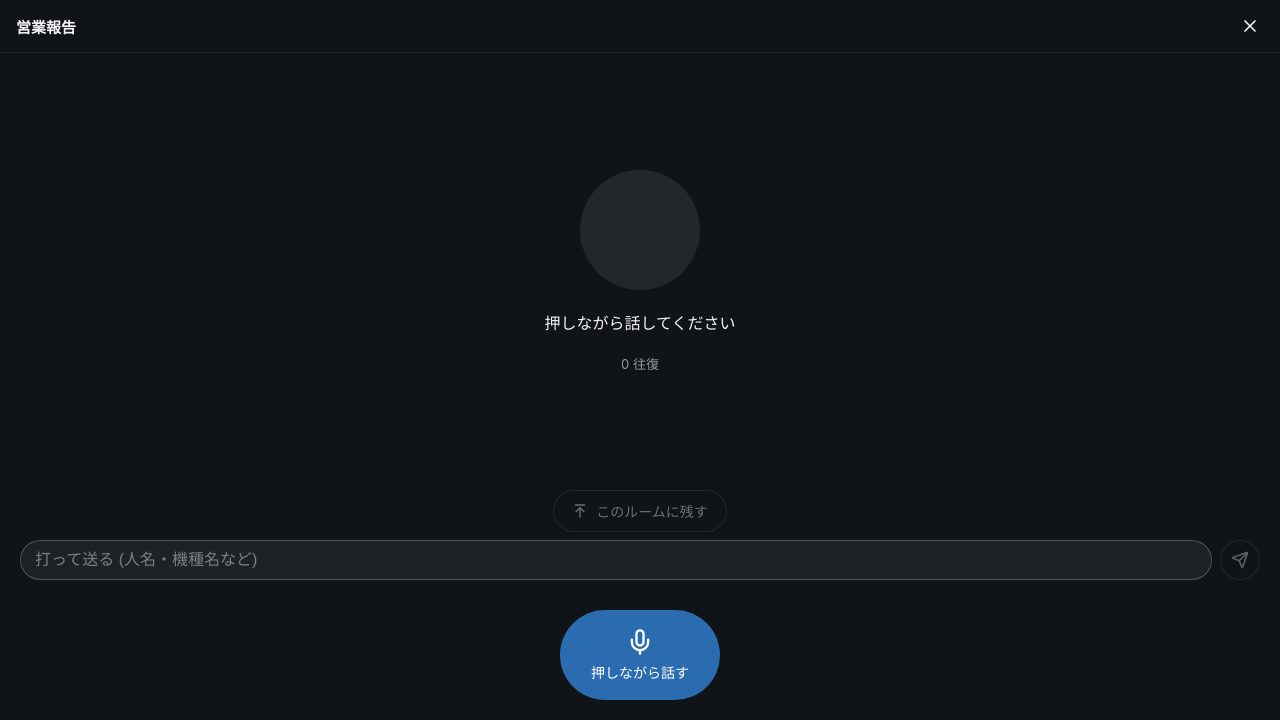
Test: VoiceChatView — 声が送られなかったとき (#421) › ★ もう一度押したら消える (前の知らせが残り続けない)
Check: the message reads "押しながら話してください", box left=544, top=313, right=736, bottom=333
Press the mouse on the button "押しながら話す" at {"x": 640, "y": 655}, box left=560, top=610, right=720, bottom=700
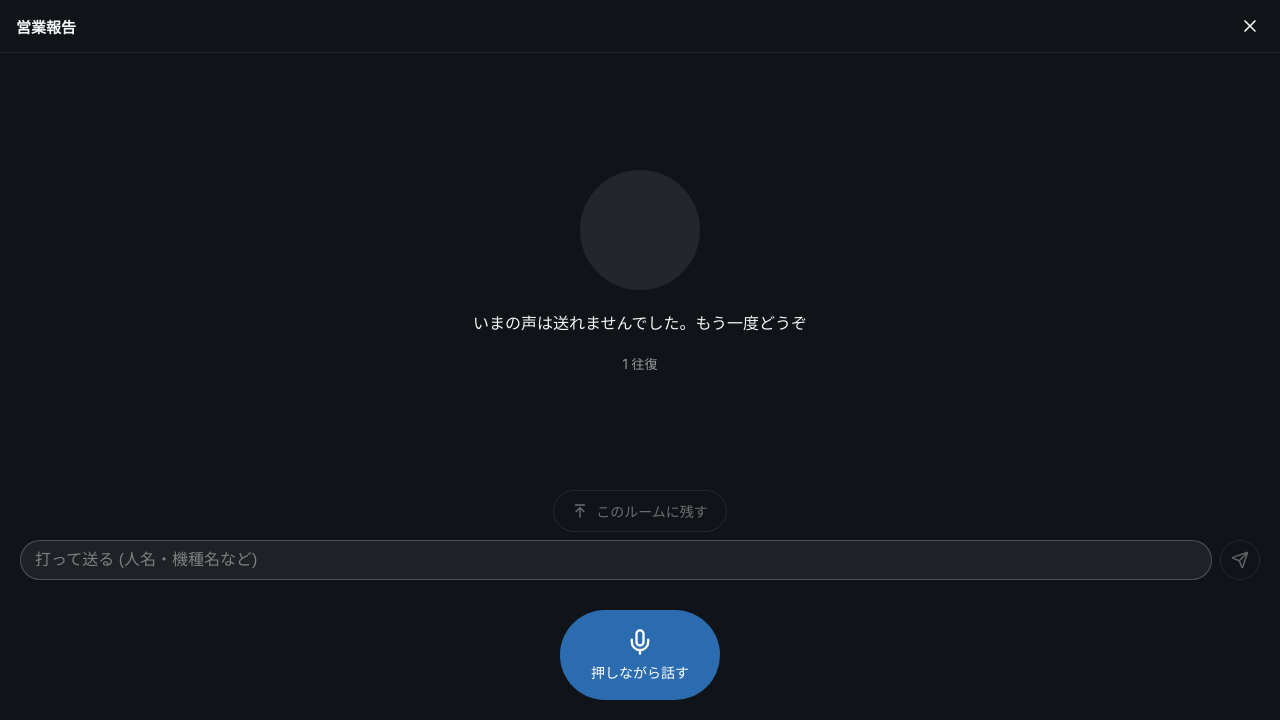
Check: the message shows "送れませんでした", box left=473, top=313, right=807, bottom=333
Press the mouse on the button "押しながら話す" at {"x": 640, "y": 655}, box left=560, top=610, right=720, bottom=700
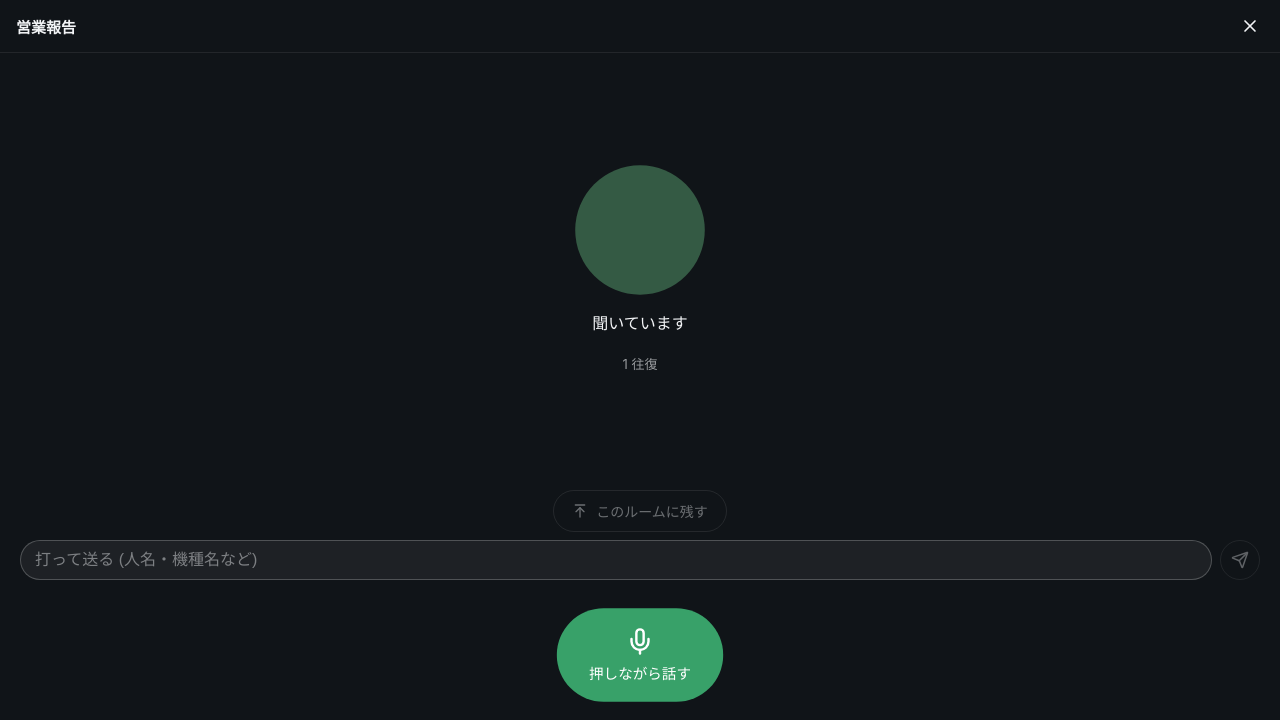
Check: the message reads "聞いています", box left=592, top=313, right=688, bottom=333
